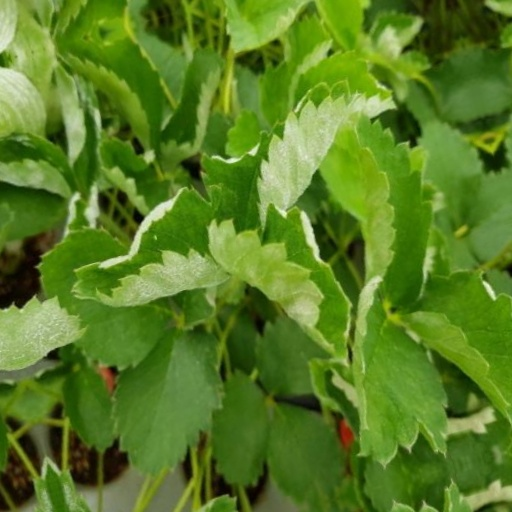Powdery Mildew Leaf: (176, 207, 299, 382), (109, 306, 214, 499), (115, 105, 262, 240), (259, 170, 446, 274), (234, 38, 321, 147), (409, 60, 511, 148), (79, 80, 181, 153), (317, 100, 383, 189), (462, 392, 511, 511), (368, 17, 411, 152), (434, 235, 511, 303), (337, 477, 430, 511), (56, 460, 124, 503), (390, 143, 441, 193), (196, 383, 226, 466)
